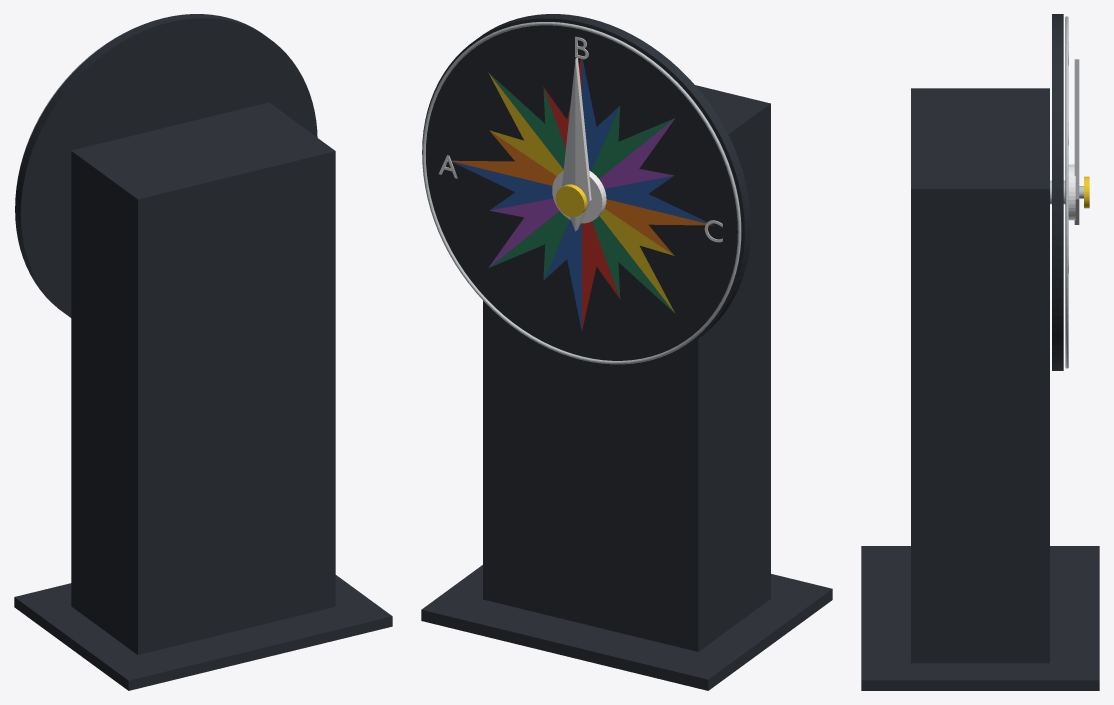
The model's file is totem.glb.
3 views of the same model, side by side, from view 1: azimuth 30°, elevation 25°; view 2: azimuth 150°, elevation 25°; view 3: azimuth 270°, elevation 25° (orthographic). The views are drawn at different scales.
Parts seen in each view (by area): view 1: totem_painel_traseiro, disco_vertical_janela_nao_certificada, totem_lateral_271.5, totem_pe, totem_tampa_133.5, totem_frente_inferior, totem_frente_superior, totem_frente_janela_277.5, totem_lateral_328.5; view 2: totem_frente_inferior, mostrador_impresso_preto, totem_lateral_271.5, totem_pe, disco_vertical_janela_nao_certificada, totem_painel_traseiro, ponteiro_afilado_claro, rosa_faceta_02_1, rosa_faceta_10_1, rosa_faceta_14_1, rosa_faceta_04_1, rosa_faceta_04_-1 (+26 smaller); view 3: totem_lateral_328.5, totem_pe, totem_tampa_133.5, totem_painel_traseiro, disco_vertical_janela_nao_certificada, totem_frente_inferior, totem_frente_superior, totem_frente_janela_322.5, ponteiro_afilado_sombra, totem_lateral_271.5, horn_original_representado.
Part boxes in pixels (box(x1,y1,x2,y2)): totem_painel_traseiro: box(132, 147, 335, 654); disco_vertical_janela_nao_certificada: box(15, 14, 317, 317); totem_lateral_271.5: box(77, 152, 141, 650); totem_pe: box(14, 575, 392, 690); totem_tampa_133.5: box(87, 109, 319, 192); totem_frente_inferior: box(71, 285, 76, 610); totem_frente_superior: box(71, 102, 274, 175); totem_frente_janela_277.5: box(71, 172, 76, 289); totem_lateral_328.5: box(265, 106, 329, 149); totem_frente_inferior: box(483, 301, 704, 651); mostrador_impresso_preto: box(428, 27, 736, 358); totem_lateral_271.5: box(704, 105, 764, 646); totem_pe: box(421, 565, 832, 690); disco_vertical_janela_nao_certificada: box(422, 14, 750, 365); totem_painel_traseiro: box(695, 85, 770, 602); ponteiro_afilado_claro: box(575, 57, 591, 231); rosa_faceta_02_1: box(488, 73, 563, 173); rosa_faceta_10_1: box(600, 212, 674, 312); rosa_faceta_14_1: box(594, 118, 674, 178); rosa_faceta_04_1: box(451, 161, 552, 201); rosa_faceta_04_-1: box(451, 160, 554, 185); totem_lateral_328.5: box(923, 183, 1037, 663); totem_pe: box(861, 546, 1099, 690); totem_tampa_133.5: box(923, 93, 1037, 183); totem_painel_traseiro: box(911, 88, 922, 663); disco_vertical_janela_nao_certificada: box(1052, 14, 1063, 370); totem_frente_inferior: box(1038, 329, 1049, 663); totem_frente_superior: box(1038, 88, 1049, 210); totem_frente_janela_322.5: box(1038, 210, 1049, 328); ponteiro_afilado_sombra: box(1074, 59, 1079, 224); totem_lateral_271.5: box(923, 88, 1037, 93); horn_original_representado: box(1068, 164, 1075, 220).
Size of the model in its own units: 0.09 by 0.165 by 0.06.
